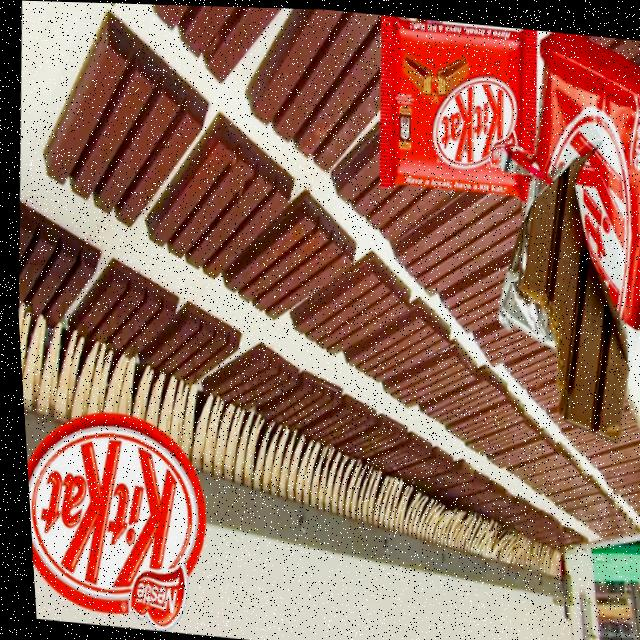kitkat: (368, 14, 537, 193)
